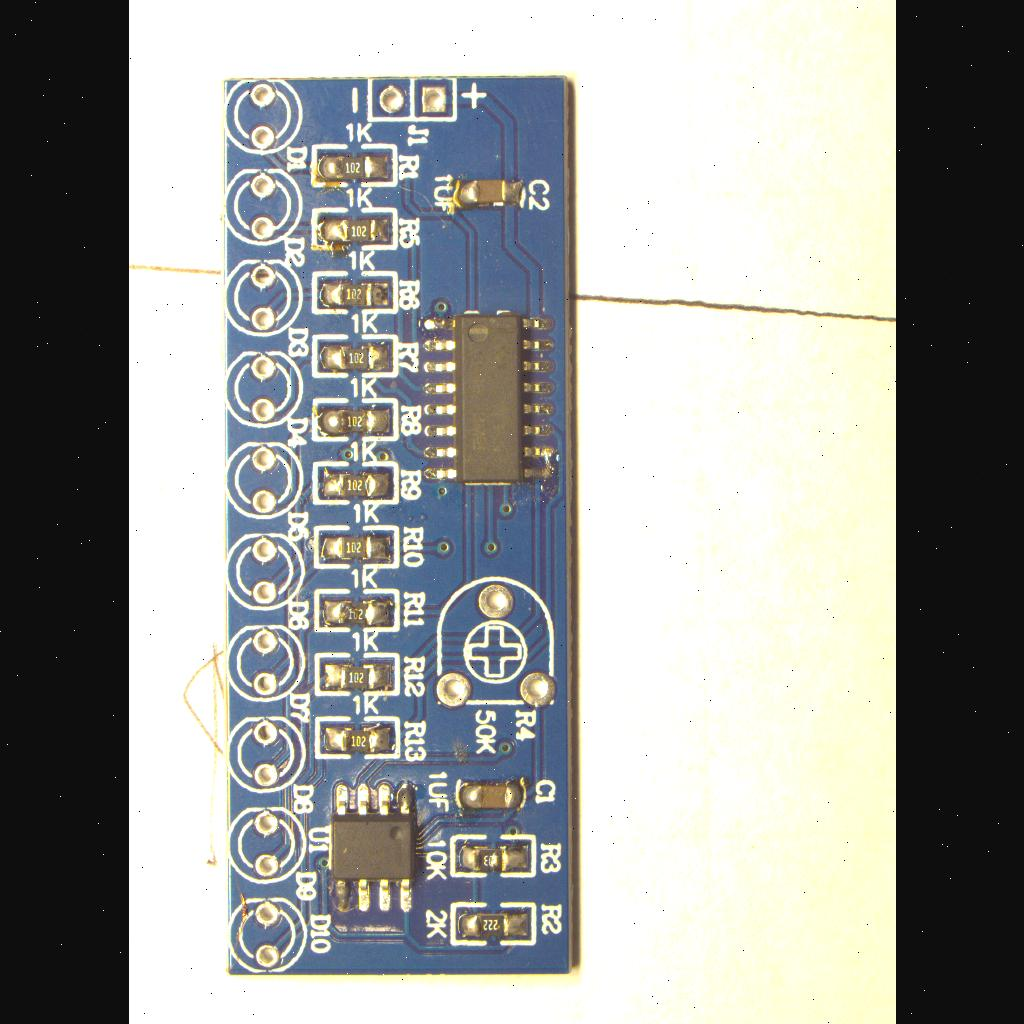OK: (414, 306, 560, 496), (324, 776, 420, 922), (311, 712, 403, 764), (308, 268, 400, 318), (310, 586, 400, 636), (308, 396, 398, 446), (307, 142, 399, 190), (307, 206, 399, 254), (448, 898, 540, 946), (310, 650, 402, 698), (309, 524, 401, 572), (308, 332, 400, 380), (310, 459, 400, 507), (449, 833, 537, 881), (450, 773, 534, 819), (448, 176, 530, 212)
